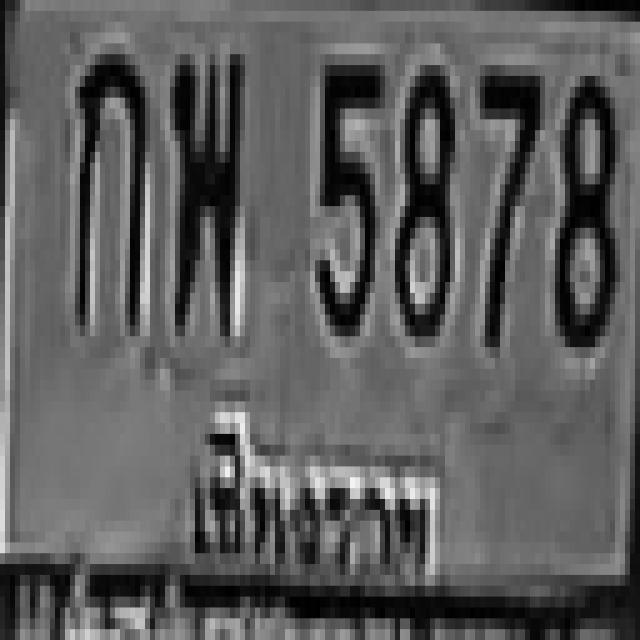10GorGai: (70, 44, 145, 326)
39PhorPan: (168, 49, 242, 331)
5: (315, 54, 380, 326)
7: (475, 60, 535, 342)
8: (550, 65, 615, 336), (392, 55, 452, 336)
ChiangRai: (177, 406, 447, 598)
